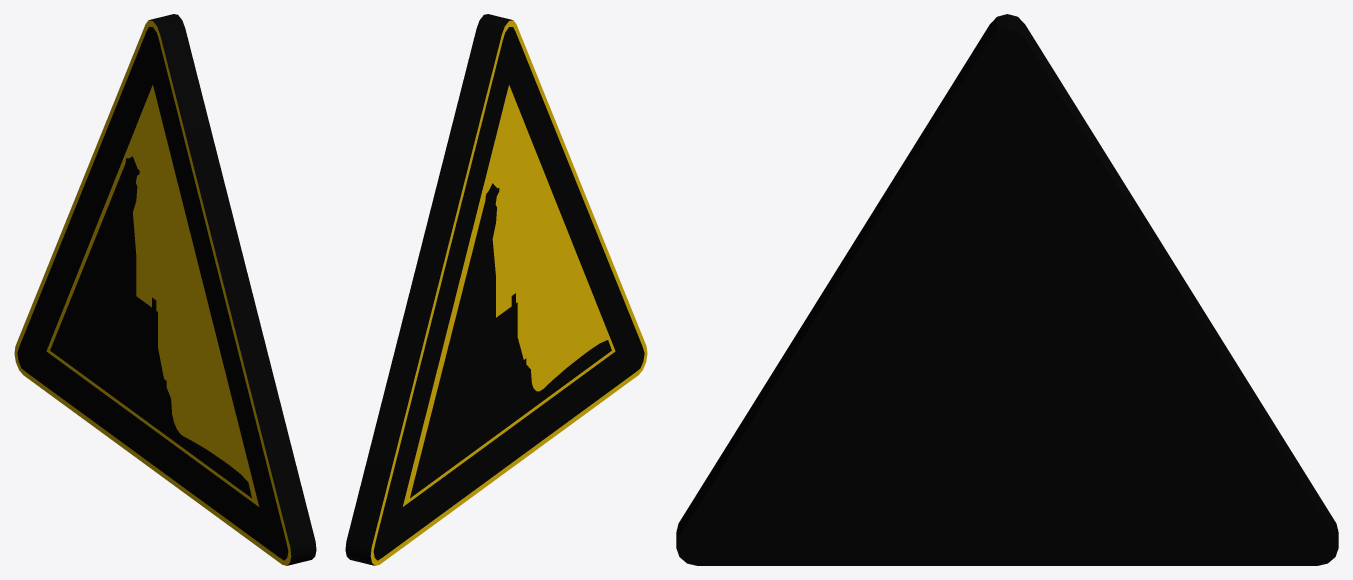
Rendered from Mountain_DropOff_Left.fbx.
3 views of the same model, side by side, from view 1: azimuth 30°, elevation 25°; view 2: azimuth 150°, elevation 25°; view 3: azimuth 270°, elevation 25° (orthographic). The views are drawn at different scales.
Visible parts, largest first — view 1: Mountain_DropOff_Left; view 2: Mountain_DropOff_Left; view 3: Mountain_DropOff_Left.
Part boxes in pixels (<box>): Mountain_DropOff_Left: <box>14,14,316,565</box>; Mountain_DropOff_Left: <box>345,14,647,565</box>; Mountain_DropOff_Left: <box>676,14,1338,565</box>.
Size of the model in its own units: 0.0642 by 1.02 by 1.14.
